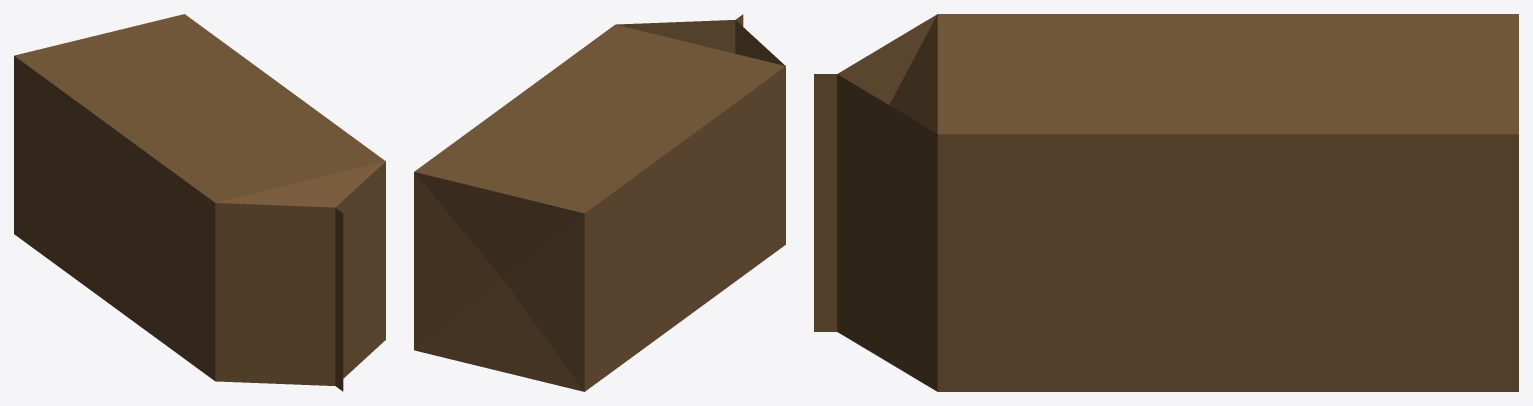
3 renders of one model, left to right at view 1: azimuth 30°, elevation 25°; view 2: azimuth 150°, elevation 25°; view 3: azimuth 270°, elevation 25°, orthographic. The views are drawn at different scales.
Visible parts, largest first — view 1: cicipopo chocolate milk; view 2: cicipopo chocolate milk; view 3: cicipopo chocolate milk.
Part boxes in pixels (x1,y1,x2,y2): cicipopo chocolate milk: (14,14,385,391); cicipopo chocolate milk: (414,14,785,391); cicipopo chocolate milk: (814,14,1518,391).
Bounding box in the file's own units: 5.75 × 5.76 × 14.25.
